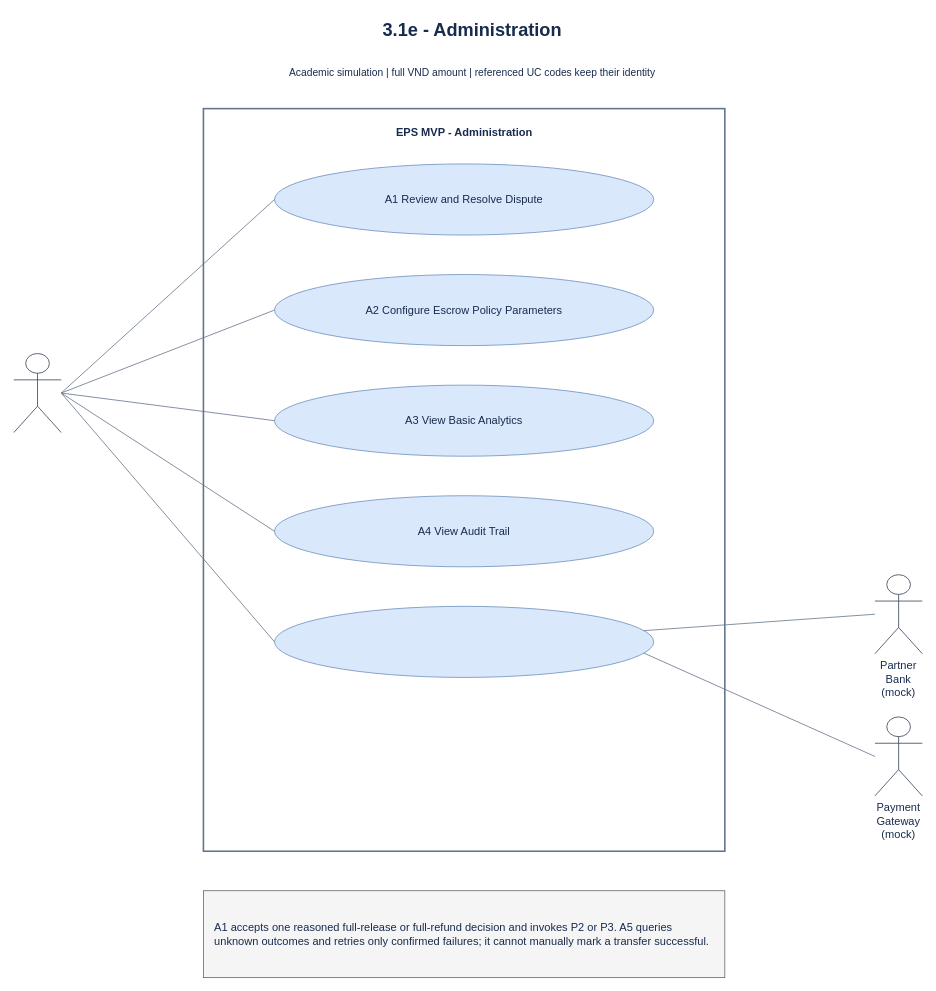
The diagram is 936 pixels wide and 991 high, and some of its shapes have lost their labels. Here are the shapes that lost their labels. From the top down, the centre of each, then its label:
At pixel 37 393: "Admin".
At pixel 464 641: "A5 Reconcile Pending Transactions/Retry Confirmed-Failed Transfers".
